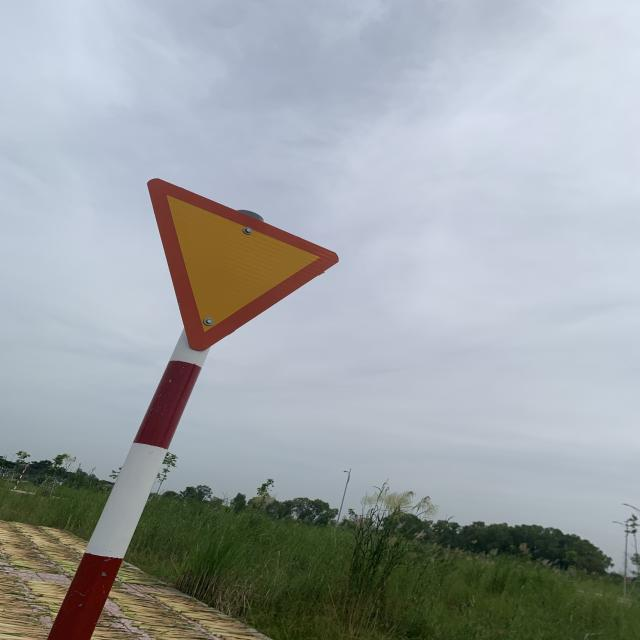Gioi_Han_Toc_Do_25: (146, 178, 340, 350)
